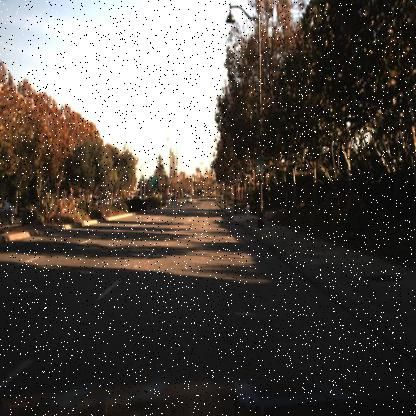car: (95, 190, 115, 210), (184, 190, 196, 209), (169, 192, 179, 208)
